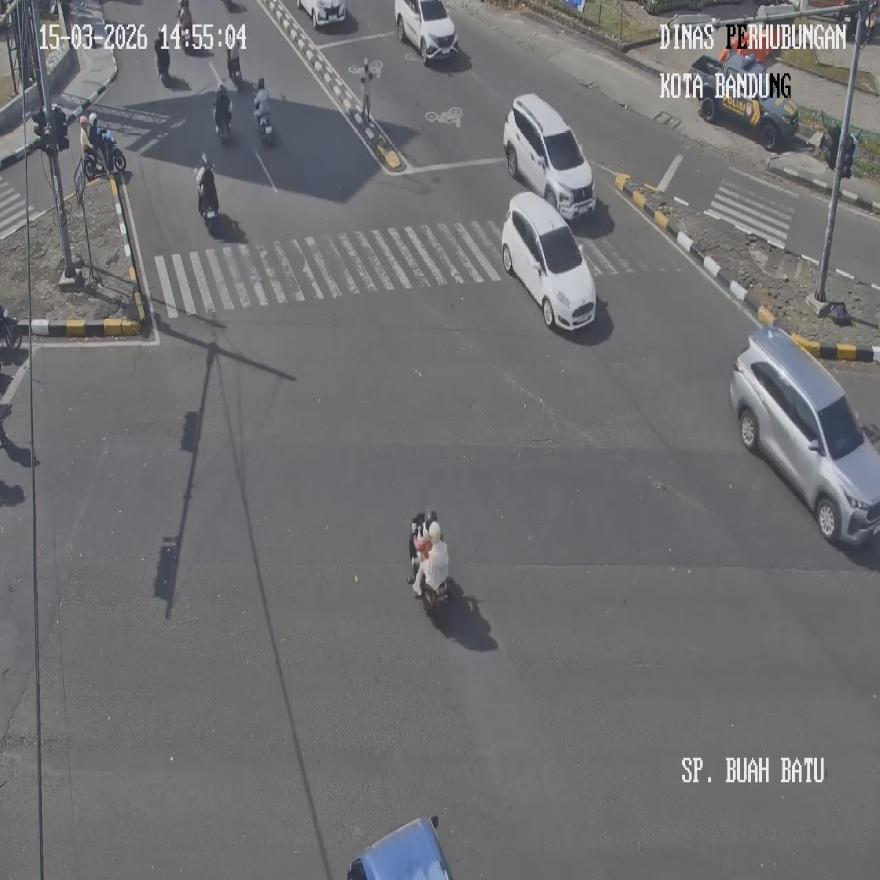Mobil: (728, 324, 880, 544), (501, 191, 597, 330), (502, 92, 596, 220), (347, 816, 452, 880), (394, 0, 457, 62), (296, 0, 345, 29)
Motor: (83, 124, 125, 178), (196, 160, 219, 232), (212, 84, 231, 142), (176, 1, 194, 53), (0, 306, 21, 350), (154, 30, 170, 80), (359, 60, 370, 123), (227, 46, 241, 90), (256, 111, 273, 144)
